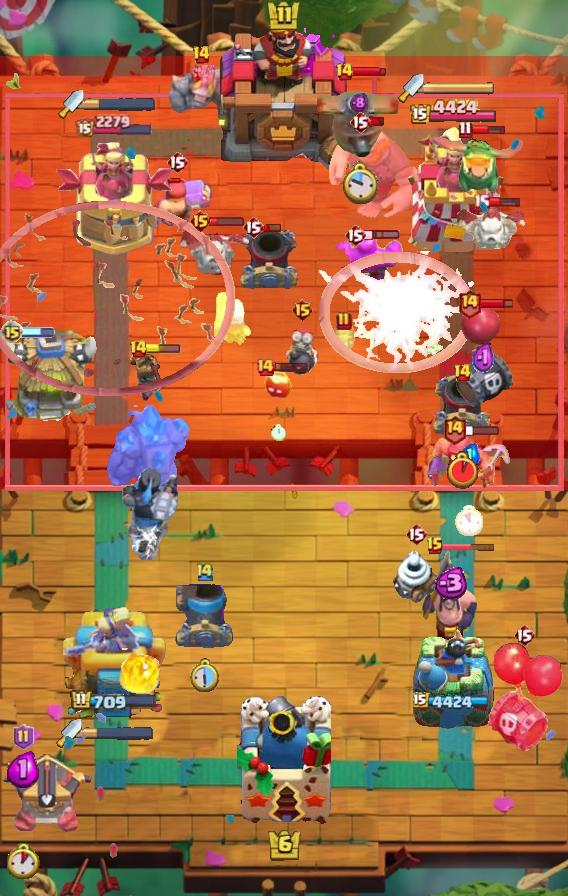balloon: (326, 120, 426, 224)
bar: (394, 126, 512, 256), (54, 142, 173, 256), (60, 607, 168, 731)
barbarian-evolution: (319, 251, 477, 373)
bomber: (264, 369, 292, 401)
bomber-evolution: (132, 353, 164, 403)
cannoneer-tower: (103, 405, 191, 503)
dark-prince: (317, 70, 401, 158)
electro-spirit: (430, 567, 469, 599), (7, 751, 39, 789), (473, 341, 496, 376), (460, 443, 481, 467), (350, 92, 368, 114)
electro-wizard: (427, 133, 525, 195)
elixir: (342, 161, 379, 206), (8, 843, 41, 879), (446, 451, 477, 489), (191, 658, 221, 693), (455, 504, 483, 535), (271, 424, 286, 441)
emote: (442, 541, 496, 551), (478, 298, 513, 311), (363, 229, 400, 241), (274, 361, 311, 373), (351, 66, 387, 78), (464, 424, 500, 436), (487, 196, 521, 208), (470, 124, 506, 135), (209, 217, 245, 228), (19, 327, 55, 338), (145, 344, 181, 354), (262, 222, 282, 233), (369, 117, 387, 128)
fireball: (425, 433, 513, 495)
goblin-drill: (391, 548, 441, 604)
ice-golem: (284, 319, 320, 377)
ice-spirit-evolution: (330, 320, 358, 352)
inferno-dragon: (121, 464, 181, 560)
king-tower: (211, 7, 357, 181), (237, 696, 331, 826)
king-tower-bar: (424, 81, 496, 95), (84, 97, 156, 111), (82, 726, 154, 740)
lava-pup: (0, 752, 92, 834)
mighty-miner: (142, 175, 212, 231)
mini-pekka: (176, 226, 252, 278), (454, 204, 528, 252)
monk: (420, 546, 478, 646)
musketeer: (238, 225, 300, 293), (431, 371, 493, 439), (175, 584, 235, 648)
prince: (0, 330, 102, 426)
queen-tower: (411, 627, 495, 731)
royal-recruit-evolution: (484, 641, 564, 755), (450, 303, 516, 407)
selected: (410, 98, 499, 126), (70, 689, 158, 713), (74, 113, 154, 137), (413, 692, 493, 712)
skeleton-barrel: (0, 199, 235, 397)
text: (458, 289, 483, 320), (442, 415, 467, 446), (0, 320, 24, 344), (189, 209, 212, 233), (290, 298, 313, 322), (14, 724, 35, 750), (349, 110, 371, 134), (166, 150, 188, 174), (242, 215, 264, 239), (344, 223, 366, 247), (405, 522, 427, 546), (513, 623, 535, 647), (195, 561, 215, 583), (255, 357, 275, 377), (193, 45, 212, 65), (335, 62, 354, 82), (129, 339, 148, 359), (452, 363, 471, 383), (426, 536, 444, 556), (474, 192, 491, 211), (336, 311, 352, 331), (459, 120, 474, 139)
tombstone: (212, 289, 254, 347)
tornado: (335, 234, 403, 286)
valkyrie: (113, 641, 165, 697)
valkyrie-evolution: (168, 65, 234, 125)
